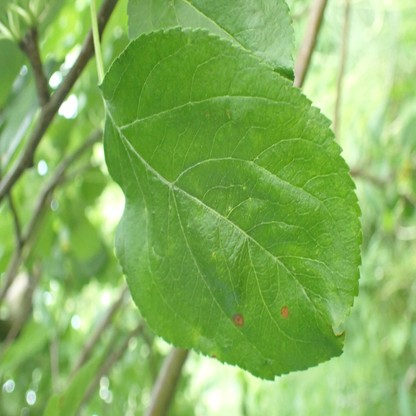frogeye_leaf_spot: (233, 314, 244, 327), (281, 305, 289, 318)
